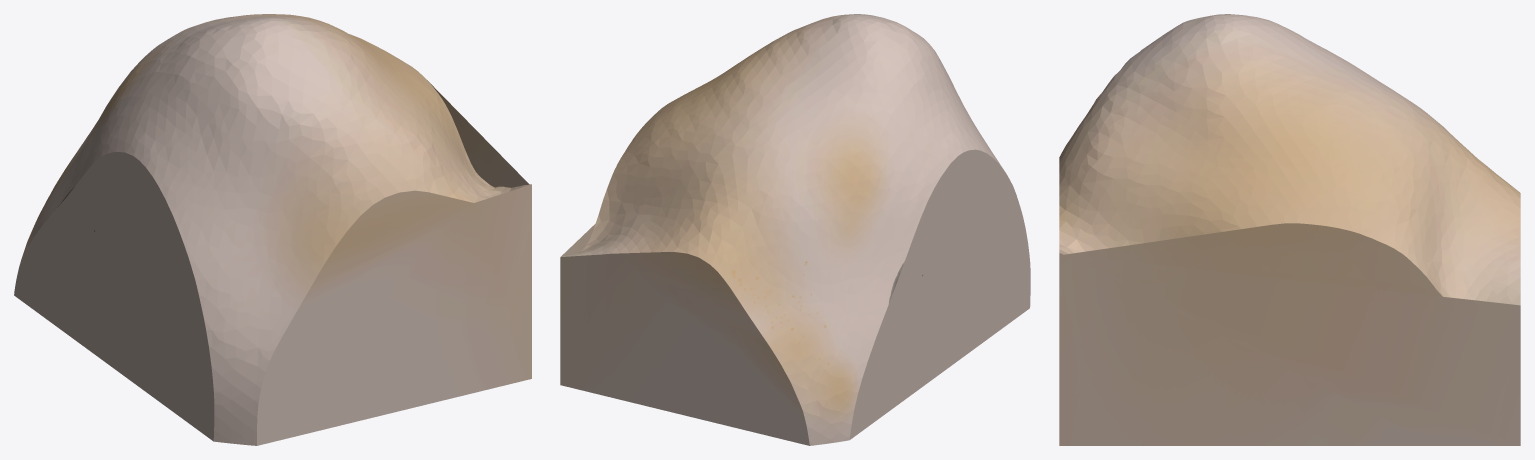
3 renders of one model, left to right at view 1: azimuth 30°, elevation 25°; view 2: azimuth 150°, elevation 25°; view 3: azimuth 270°, elevation 25°, orthographic. The views are drawn at different scales.
Parts seen in each view (by area): view 1: PalatalCusp; view 2: PalatalCusp; view 3: PalatalCusp.
Boxes of the visible parts, left/top/right/bottom form: PalatalCusp: left=14, top=14, right=531, bottom=445; PalatalCusp: left=560, top=14, right=1030, bottom=445; PalatalCusp: left=1059, top=14, right=1520, bottom=445.
Bounding box in the file's own units: 50.43 × 53.97 × 67.06.
1 material, 1 textured.
